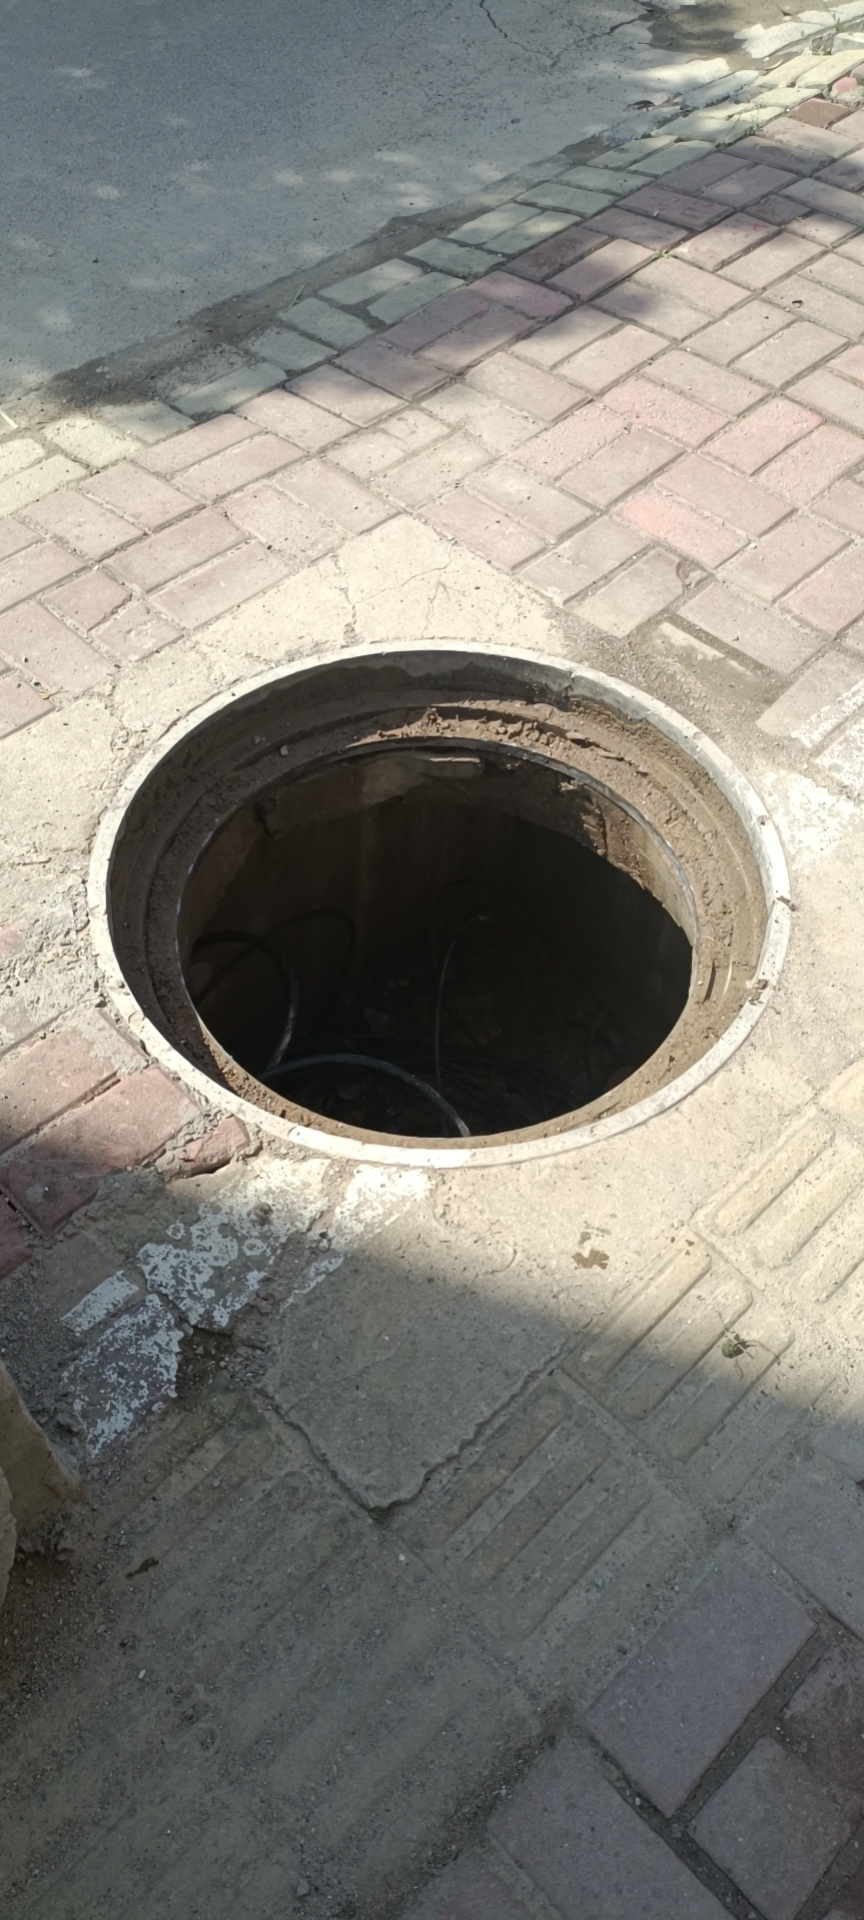lose: (88, 640, 786, 1167)
